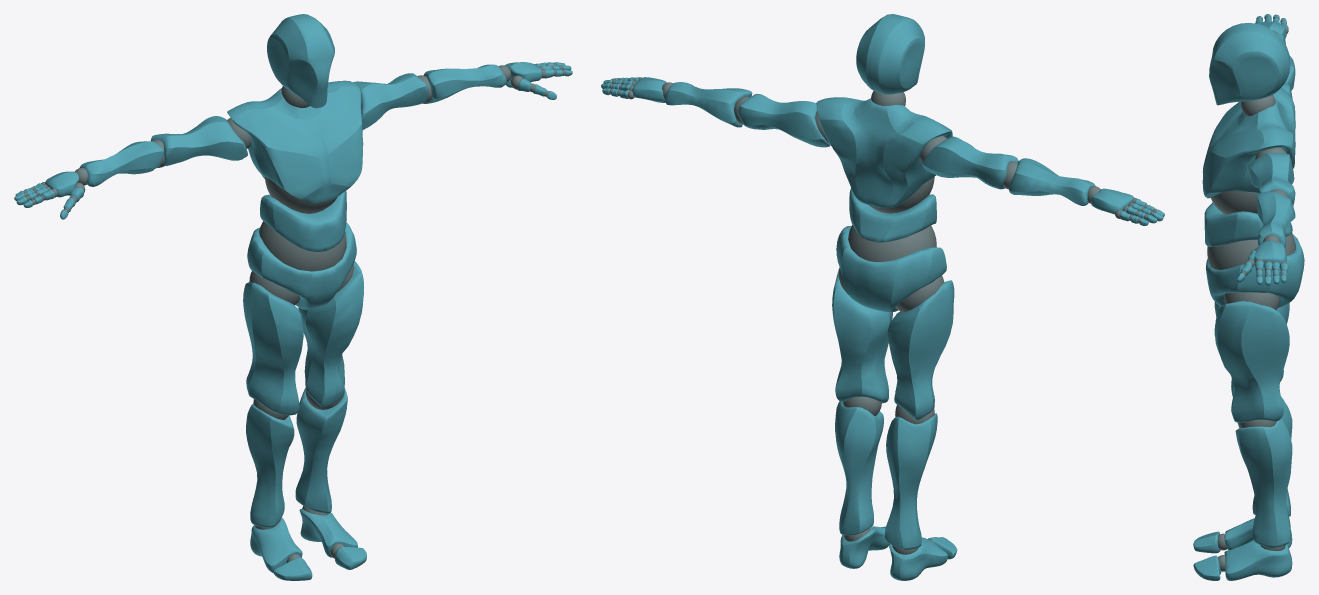
The model's file is character_y_bot.glb.
The picture shows the model from 3 angles, left to right: view 1: azimuth 30°, elevation 25°; view 2: azimuth 150°, elevation 25°; view 3: azimuth 270°, elevation 25°; orthographic projection.
Visible parts, largest first — view 1: Plexo, Muslo_2, Muslo, Cabeza, Tibia_2, Tibia, Cadera, Cintura, Humero_2, Humero, Cubito_2, Cadera_2 (+4 smaller); view 2: Plexo, Muslo_2, Muslo, Cadera, Tibia_2, Tibia, Cabeza, Humero_2, Humero, Cintura, Cubito_2, Cubito (+4 smaller); view 3: Muslo, Plexo, Cabeza, Tibia, Cadera, Pie, Cintura, Humero, Cubito, Cadera_2, Plexo_2, Pie_2 (+10 smaller).
Part boxes in pixels (<box>): Plexo: <box>227,80,363,203</box>; Muslo_2: <box>243,282,303,415</box>; Muslo: <box>298,261,363,407</box>; Cabeza: <box>267,14,334,108</box>; Tibia_2: <box>246,404,294,527</box>; Tibia: <box>295,388,347,513</box>; Cadera: <box>247,222,356,309</box>; Cintura: <box>260,191,346,252</box>; Humero_2: <box>150,116,247,166</box>; Humero: <box>353,73,428,129</box>; Cubito_2: <box>79,141,163,186</box>; Cadera_2: <box>259,221,346,271</box>; Plexo: <box>816,97,952,208</box>; Muslo_2: <box>888,280,954,419</box>; Muslo: <box>832,268,892,403</box>; Cadera: <box>836,226,946,312</box>; Tibia_2: <box>885,413,937,549</box>; Tibia: <box>835,401,883,535</box>; Cabeza: <box>856,14,924,94</box>; Humero_2: <box>922,136,1018,189</box>; Humero: <box>738,94,830,147</box>; Cintura: <box>849,188,936,242</box>; Cubito_2: <box>1009,158,1095,205</box>; Cubito: <box>665,82,752,127</box>; Muslo: <box>1214,301,1289,422</box>; Plexo: <box>1202,87,1295,198</box>; Cabeza: <box>1209,23,1290,105</box>; Tibia: <box>1235,418,1292,547</box>; Cadera: <box>1206,234,1304,308</box>; Pie: <box>1224,540,1292,580</box>; Cintura: <box>1204,202,1292,246</box>; Humero: <box>1248,153,1295,205</box>; Cubito: <box>1257,191,1295,247</box>; Cadera_2: <box>1207,233,1296,269</box>; Plexo_2: <box>1211,191,1258,214</box>; Pie_2: <box>1224,518,1292,550</box>.
Bounding box in the file's own units: 2.27 × 2.11 × 0.3957.
